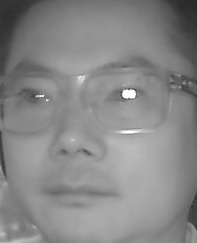eye: (17, 86, 51, 109)
glass: (78, 68, 172, 136), (1, 69, 60, 134)
mouth: (39, 177, 111, 213)
